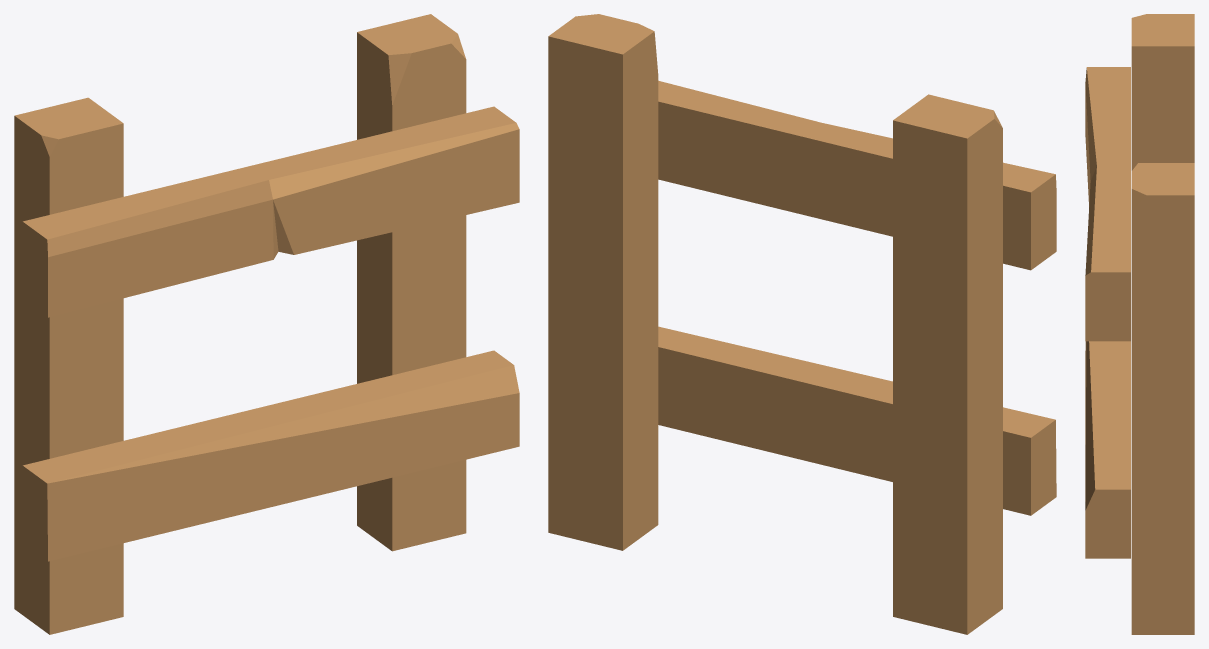
File: ladder_comp_top.fbx
3 renders of one model, left to right at view 1: azimuth 30°, elevation 25°; view 2: azimuth 150°, elevation 25°; view 3: azimuth 270°, elevation 25°, orthographic. The views are drawn at different scales.
Visible parts, largest first — view 1: ladder_comp_top; view 2: ladder_comp_top; view 3: ladder_comp_top.
Part boxes in pixels (x1=…): ladder_comp_top: x1=14, y1=14, x2=519, y2=634; ladder_comp_top: x1=548, y1=14, x2=1056, y2=634; ladder_comp_top: x1=1085, y1=14, x2=1194, y2=634.
Size of the model in its own units: 200 by 200 by 44.97.
